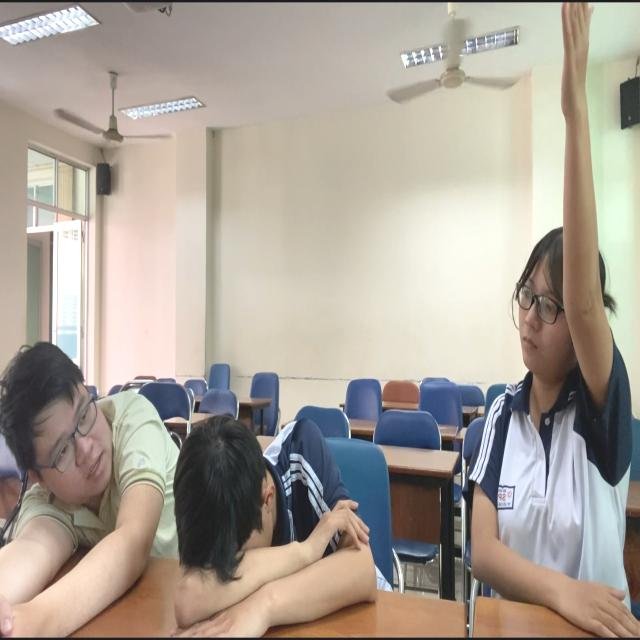raise_hand: (455, 8, 640, 640)
sleep: (167, 386, 393, 640)
